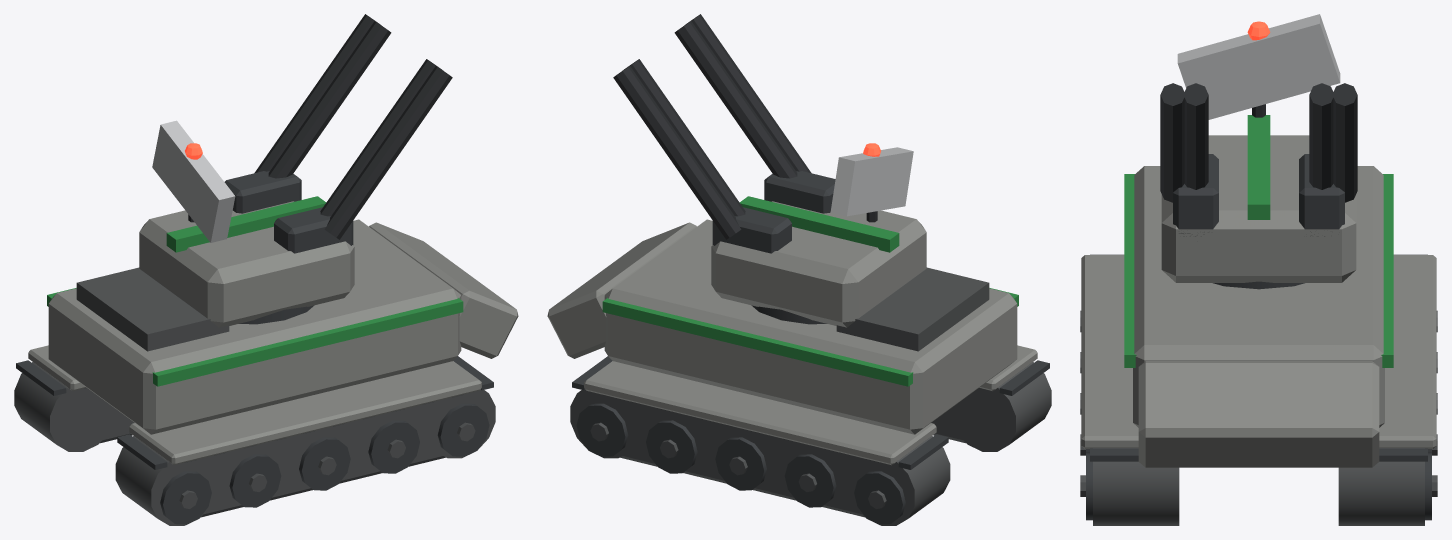
3 views of the same model, side by side, from view 1: azimuth 30°, elevation 25°; view 2: azimuth 150°, elevation 25°; view 3: azimuth 270°, elevation 25° (orthographic). The views are drawn at different scales.
Visible parts, largest first — view 1: Aa_Walls, Aa_turret, Aa_Foundation, Aa_Details, Aa_Frame, Aa_rotor; view 2: Aa_Walls, Aa_turret, Aa_Foundation, Aa_Details, Aa_Frame, Aa_rotor; view 3: Aa_Walls, Aa_turret, Aa_Foundation, Aa_rotor, Aa_Details, Aa_Frame.
Part boxes in pixels (x1=…): Aa_Walls: x1=28, y1=219, x2=518, y2=465; Aa_turret: x1=139, y1=14, x2=452, y2=327; Aa_Foundation: x1=14, y1=362, x2=495, y2=525; Aa_Details: x1=16, y1=267, x2=493, y2=508; Aa_Frame: x1=160, y1=403, x2=489, y2=524; Aa_rotor: x1=152, y1=120, x2=235, y2=242; Aa_Walls: x1=547, y1=219, x2=1037, y2=465; Aa_turret: x1=613, y1=14, x2=926, y2=327; Aa_Foundation: x1=570, y1=362, x2=1051, y2=525; Aa_Details: x1=572, y1=267, x2=1049, y2=508; Aa_Frame: x1=576, y1=403, x2=905, y2=524; Aa_rotor: x1=830, y1=143, x2=913, y2=222; Aa_Walls: x1=1081, y1=166, x2=1436, y2=467; Aa_turret: x1=1160, y1=83, x2=1357, y2=289; Aa_Foundation: x1=1093, y1=448, x2=1424, y2=525; Aa_rotor: x1=1177, y1=14, x2=1340, y2=119; Aa_Details: x1=1080, y1=174, x2=1437, y2=496; Aa_Frame: x1=1086, y1=449, x2=1431, y2=520.
Size of the model in its own units: 0.9529 by 0.8541 by 0.624.
